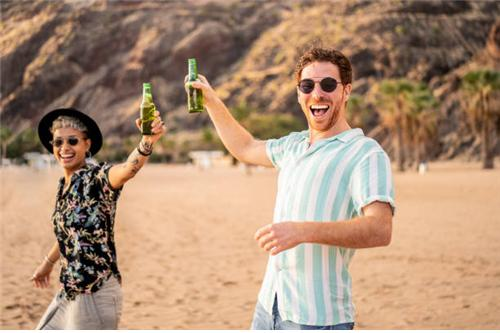alcohol: (186, 59, 204, 112), (140, 84, 156, 136)
